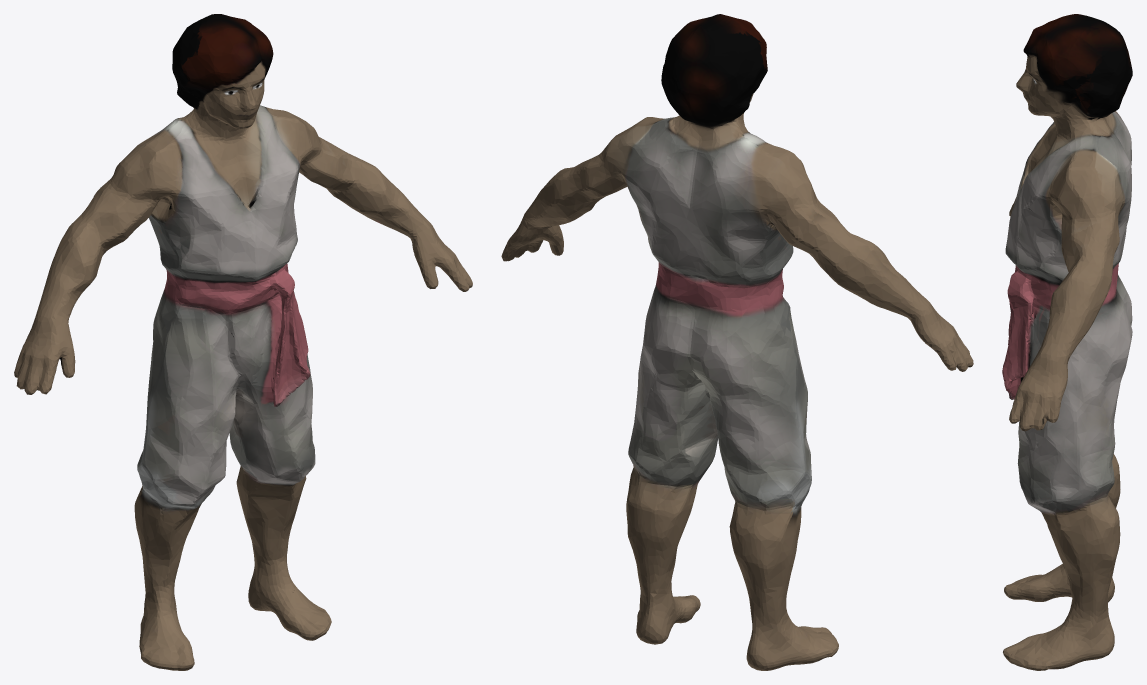
3 views of the same model, side by side, from view 1: azimuth 30°, elevation 25°; view 2: azimuth 150°, elevation 25°; view 3: azimuth 270°, elevation 25° (orthographic). The views are drawn at different scales.
Visible parts, largest first — view 1: white_mesh; view 2: white_mesh; view 3: white_mesh.
Part boxes in pixels (x1=…): white_mesh: x1=14, y1=14, x2=472, y2=670; white_mesh: x1=501, y1=14, x2=973, y2=670; white_mesh: x1=1002, y1=14, x2=1132, y2=670.
Bounding box in the file's own units: 151 × 196 × 37.93.
Materials: 1 (1 with a texture image).
